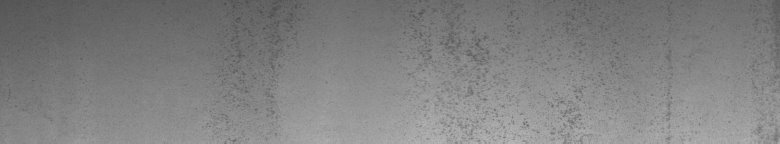ib: (404, 6, 604, 136)
